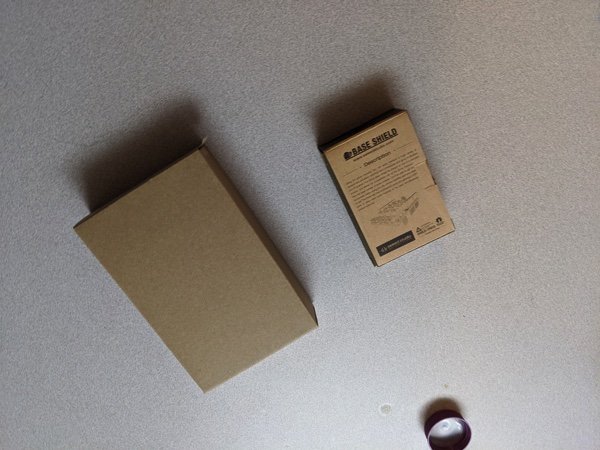cardboard: (62, 126, 331, 410), (324, 92, 470, 282)
